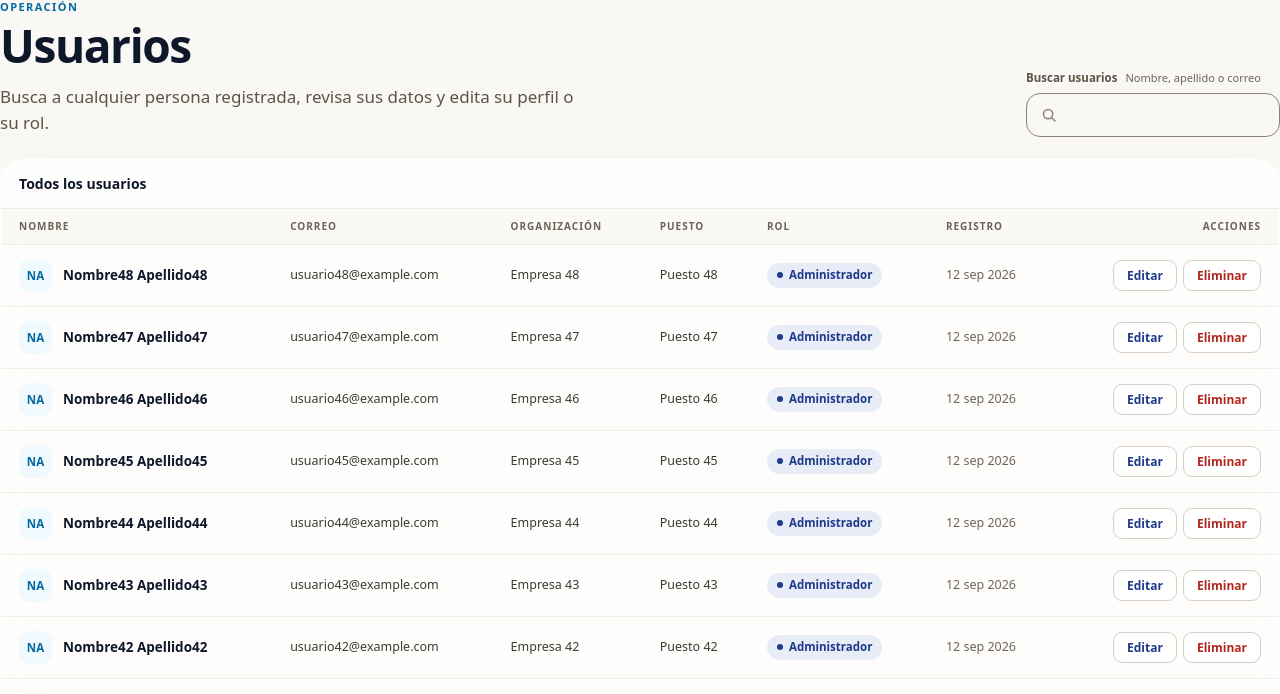
Test case: AdminUsuariosPage (/admin/usuarios) › búsqueda › espera 300 ms después de la última tecla y hace una sola petición
Type "a" into the search field labelled "Buscar usuarios" at {"x": 1168, "y": 115}, box [1057,94,1279,136]
Wait 200 ms
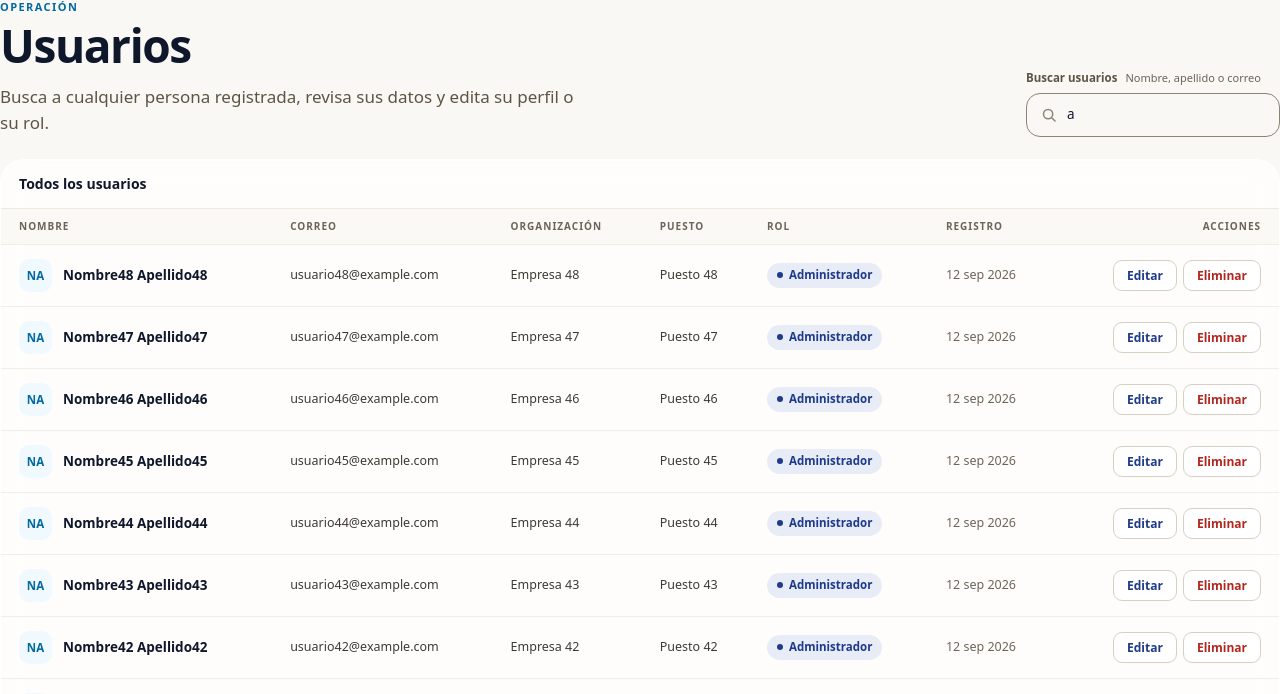
Replace the text in the search field labelled "Buscar usuarios" with "an" at {"x": 1168, "y": 115}, box [1057,94,1279,136]
Wait 200 ms
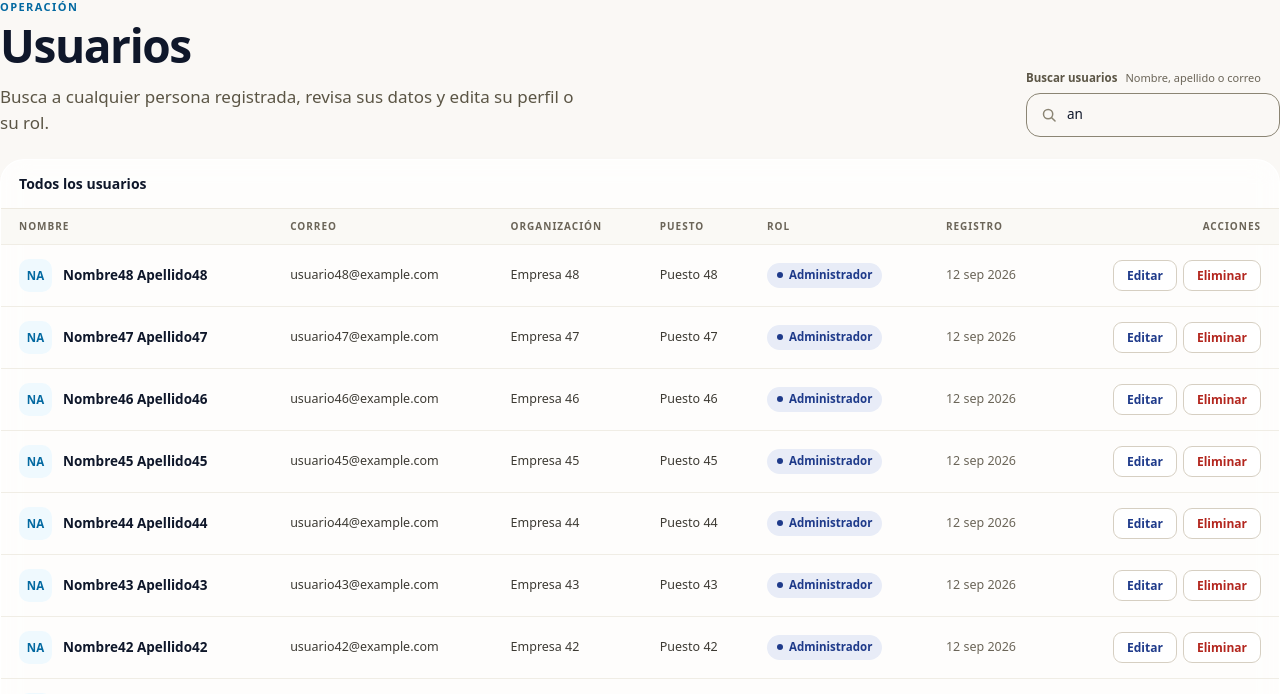
Replace the text in the search field labelled "Buscar usuarios" with "ana" at {"x": 1168, "y": 115}, box [1057,94,1279,136]
Wait 300 ms
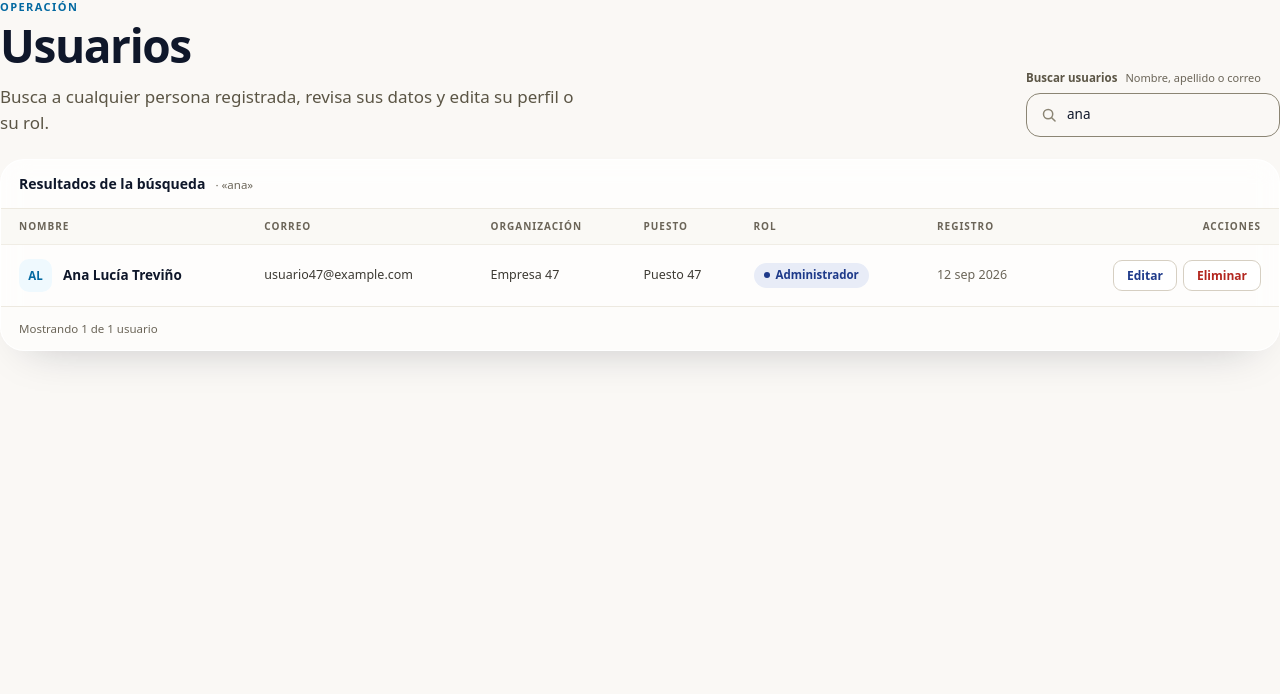
Expected: the table named "Usuarios que coinciden con «ana»" is shown, [1,209,1279,306]
Now the column heading "Ana Lucía Treviño" is shown, box [1,244,250,306]
